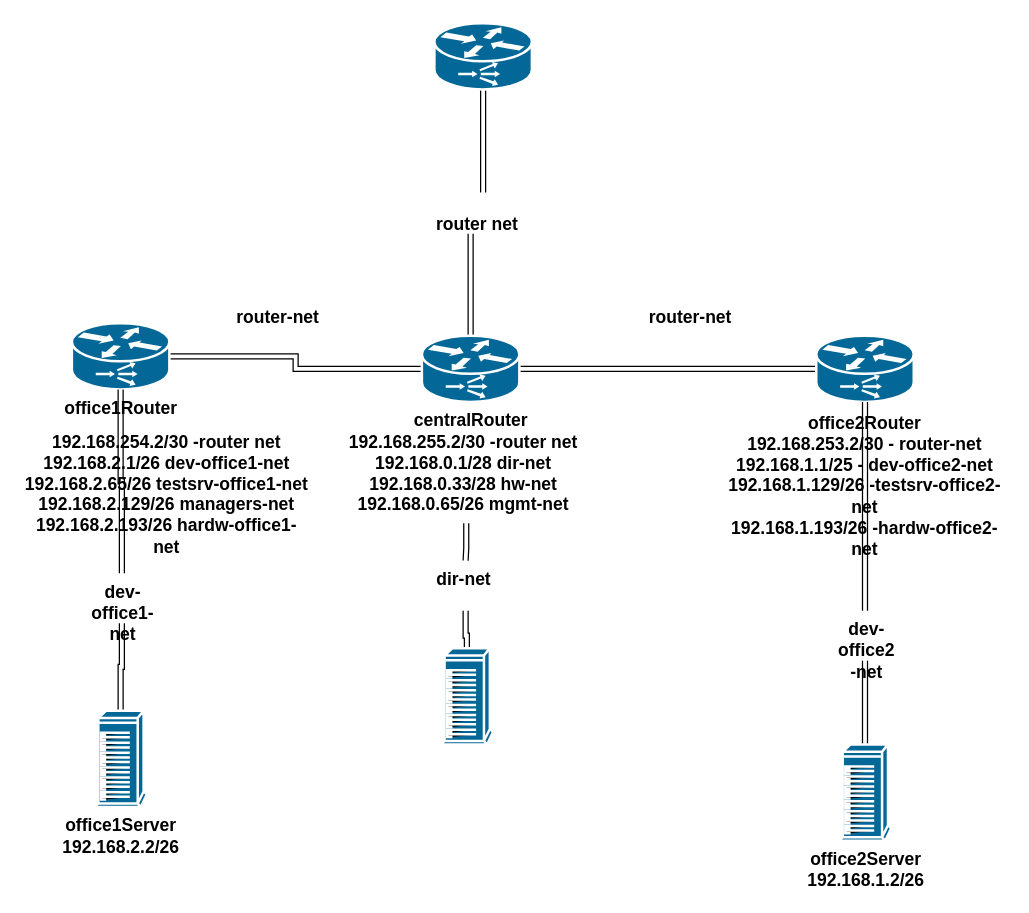
Some shapes in this 1029 by 913 pixel diagram are drawn without their labels. Each missing label, with the centre of its shape:
"centralServer 192.168.0.2/28" belongs at pixel 466 695.
"inetRouter 192.168.255.1/30" belongs at pixel 482 55.
